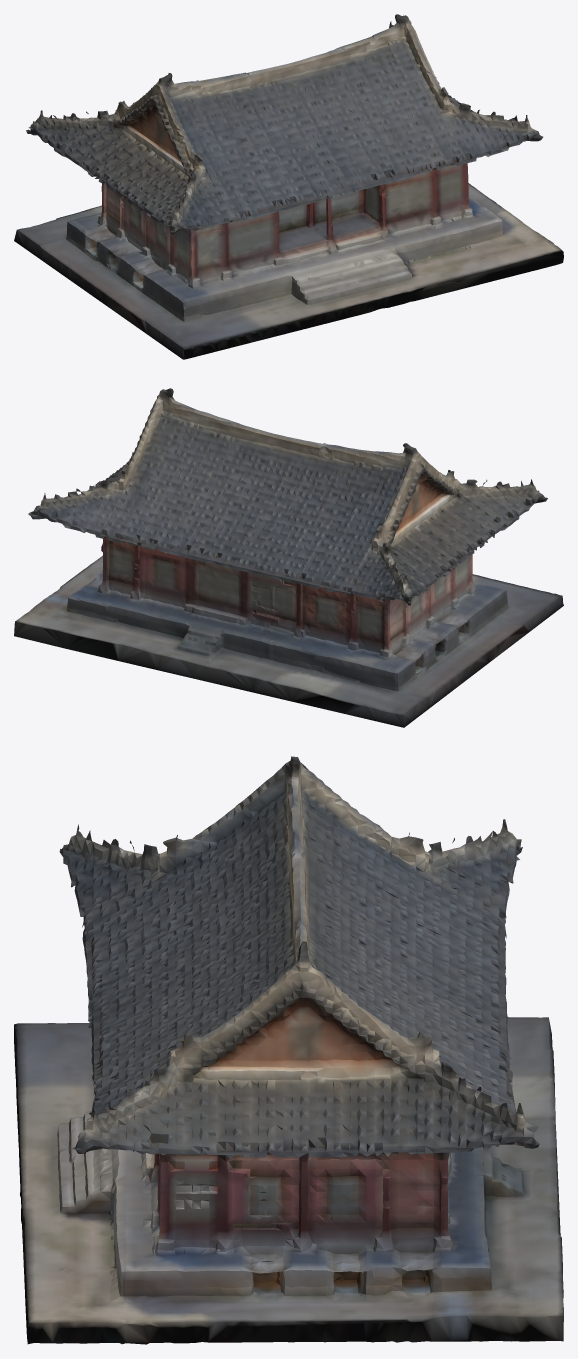
Rendered from hamwonjeon.glb.
The picture shows the model from 3 angles, top to bottom: view 1: azimuth 30°, elevation 25°; view 2: azimuth 150°, elevation 25°; view 3: azimuth 270°, elevation 25°; orthographic projection. The views are drawn at different scales.
Size of the model in its own units: 1.04 by 0.529 by 0.7782.
